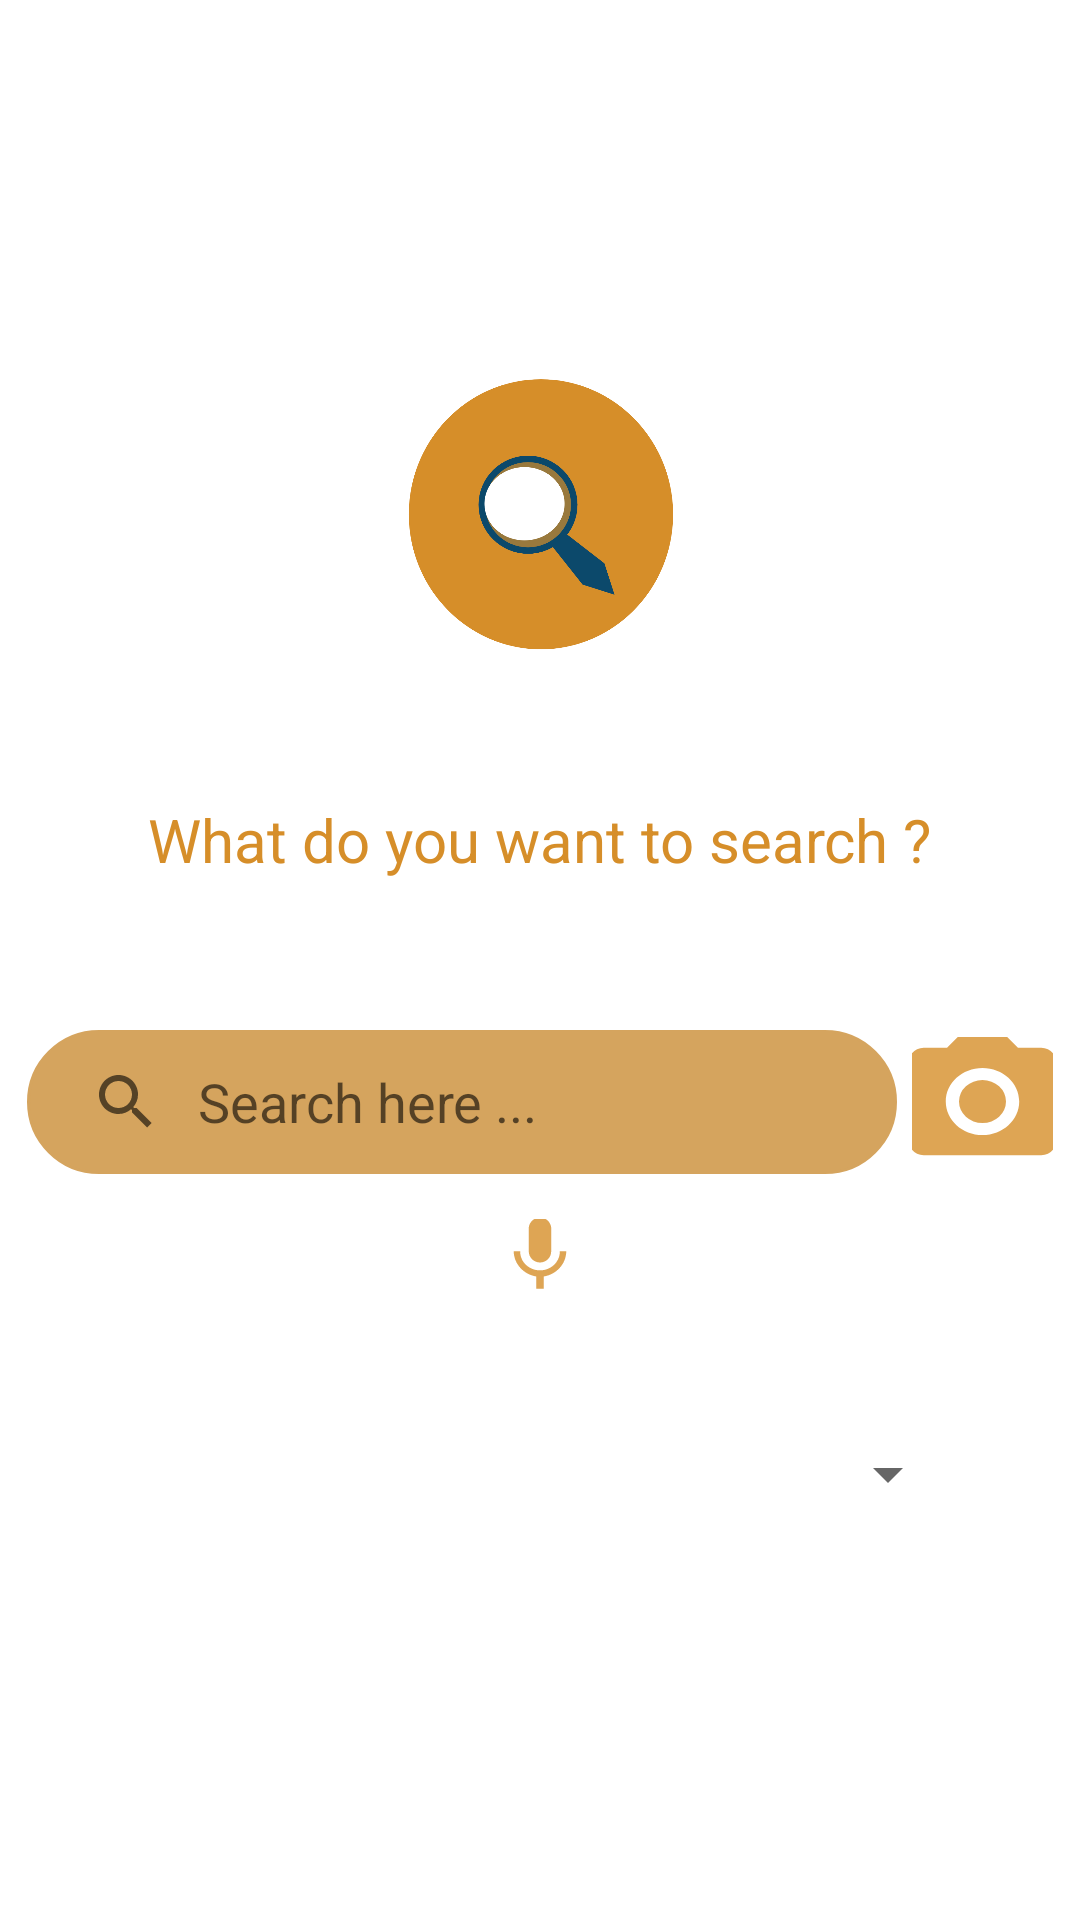

Named icons in this screenshot (1080×1920) and their bounding boxes, {"left": x1, "top": y1, "right": x2, "bottom": y2}:
camera: {"left": 912, "top": 1037, "right": 1053, "bottom": 1156}
speech: {"left": 513, "top": 1219, "right": 567, "bottom": 1289}
